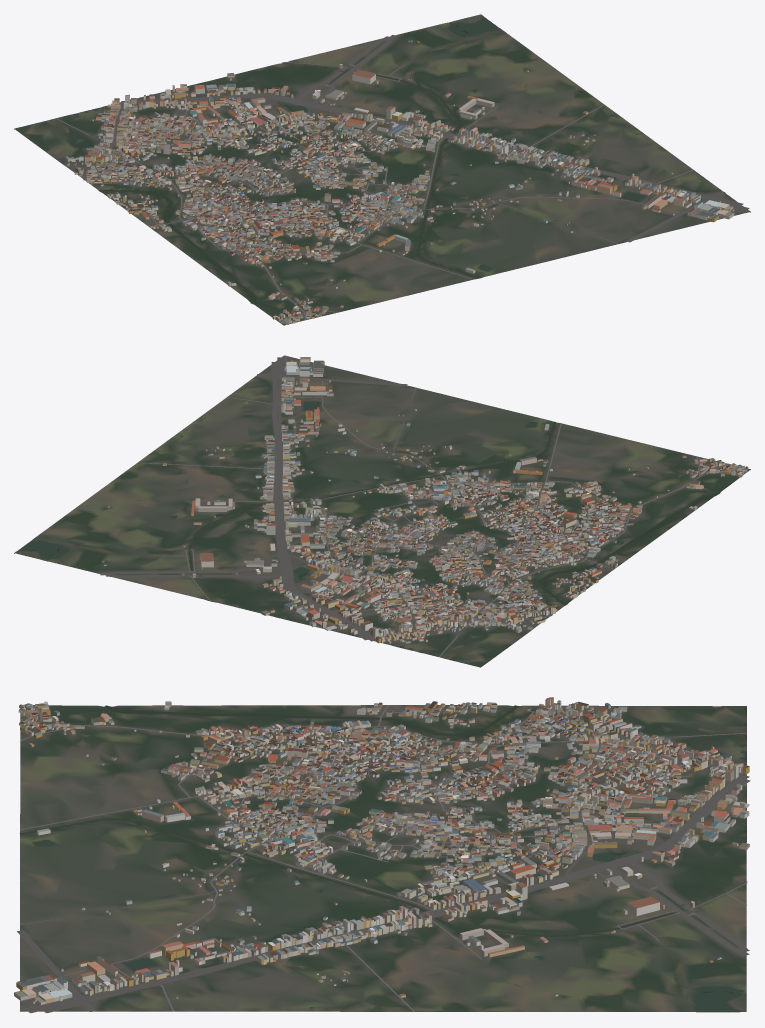
3 renders of one model, top to bottom at view 1: azimuth 30°, elevation 25°; view 2: azimuth 150°, elevation 25°; view 3: azimuth 270°, elevation 25°, orthographic. The views are drawn at different scales.
Visible parts, largest first — view 1: ground, buildings, roads, water; view 2: ground, buildings, roads, water; view 3: ground, buildings, roads, water.
Part boxes in pixels (x1,y1,x2,y2): ground: [14, 14, 750, 325]; buildings: [65, 39, 734, 324]; roads: [55, 35, 749, 323]; water: [74, 17, 645, 303]; ground: [14, 355, 750, 667]; buildings: [102, 357, 748, 643]; roads: [100, 355, 748, 657]; water: [19, 401, 719, 652]; ground: [20, 705, 746, 1012]; buildings: [14, 697, 749, 1004]; roads: [17, 705, 750, 1013]; water: [19, 705, 747, 1011].
Size of the model in its own units: 1413 by 33.38 by 1422.
